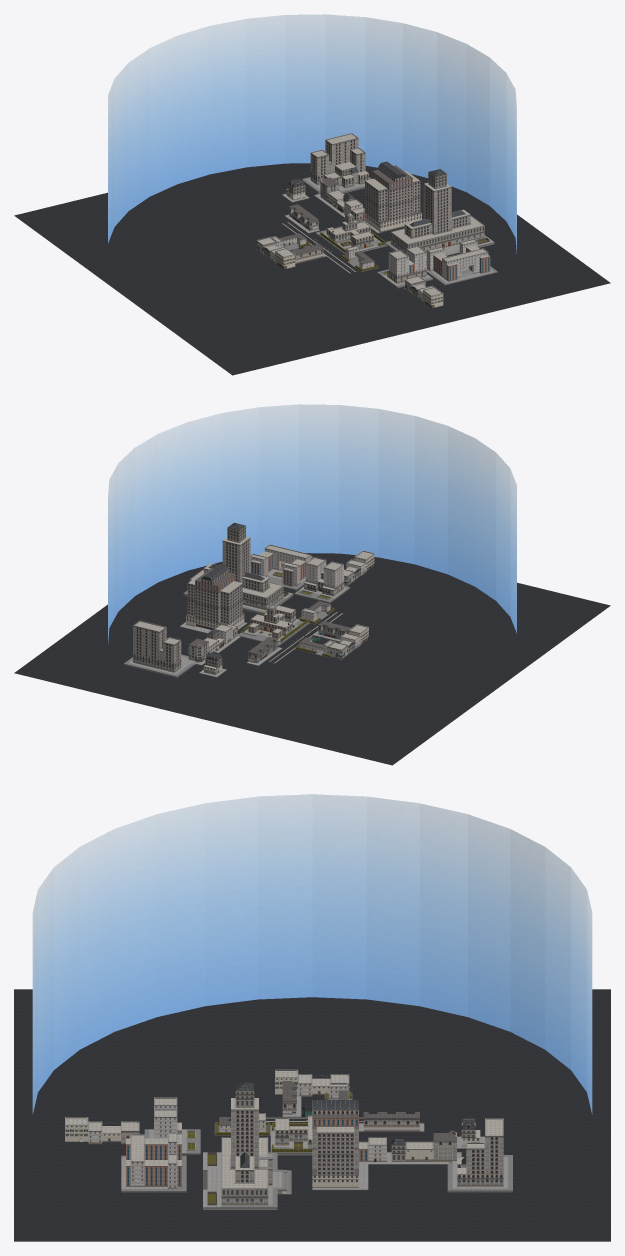
File: city.glb
3 renders of one model, top to bottom at view 1: azimuth 30°, elevation 25°; view 2: azimuth 150°, elevation 25°; view 3: azimuth 270°, elevation 25°, orthographic. The views are drawn at different scales.
Visible parts, largest first — view 1: Sky, Ground, Buildings; view 2: Sky, Ground, Buildings; view 3: Sky, Ground, Buildings.
Boxes of the visible parts, bbox=[...] form: Sky: bbox=[108, 14, 516, 253]; Ground: bbox=[14, 163, 610, 375]; Buildings: bbox=[256, 133, 497, 308]; Sky: bbox=[108, 404, 516, 643]; Ground: bbox=[14, 553, 610, 765]; Buildings: bbox=[123, 523, 374, 677]; Sky: bbox=[32, 794, 592, 1114]; Ground: bbox=[14, 989, 610, 1241]; Buildings: bbox=[65, 1069, 512, 1209].
Bounding box in the file's own units: 640 × 243 × 640.
24 materials, 14 textured.
